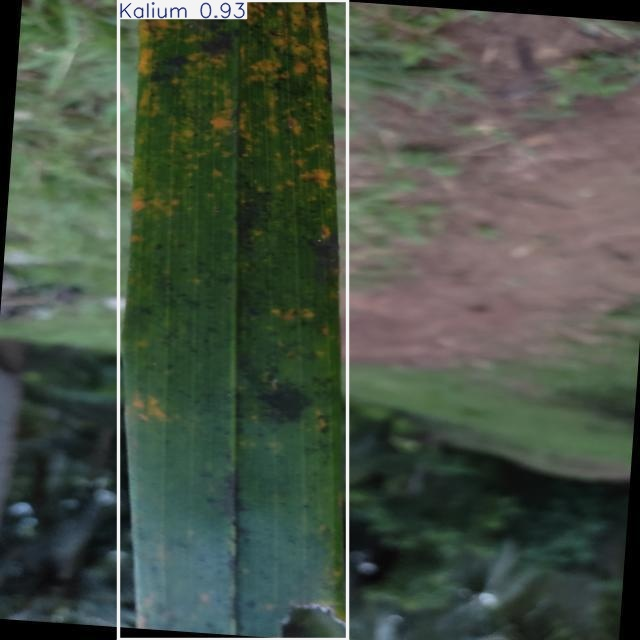Kalium: (119, 0, 347, 639)
